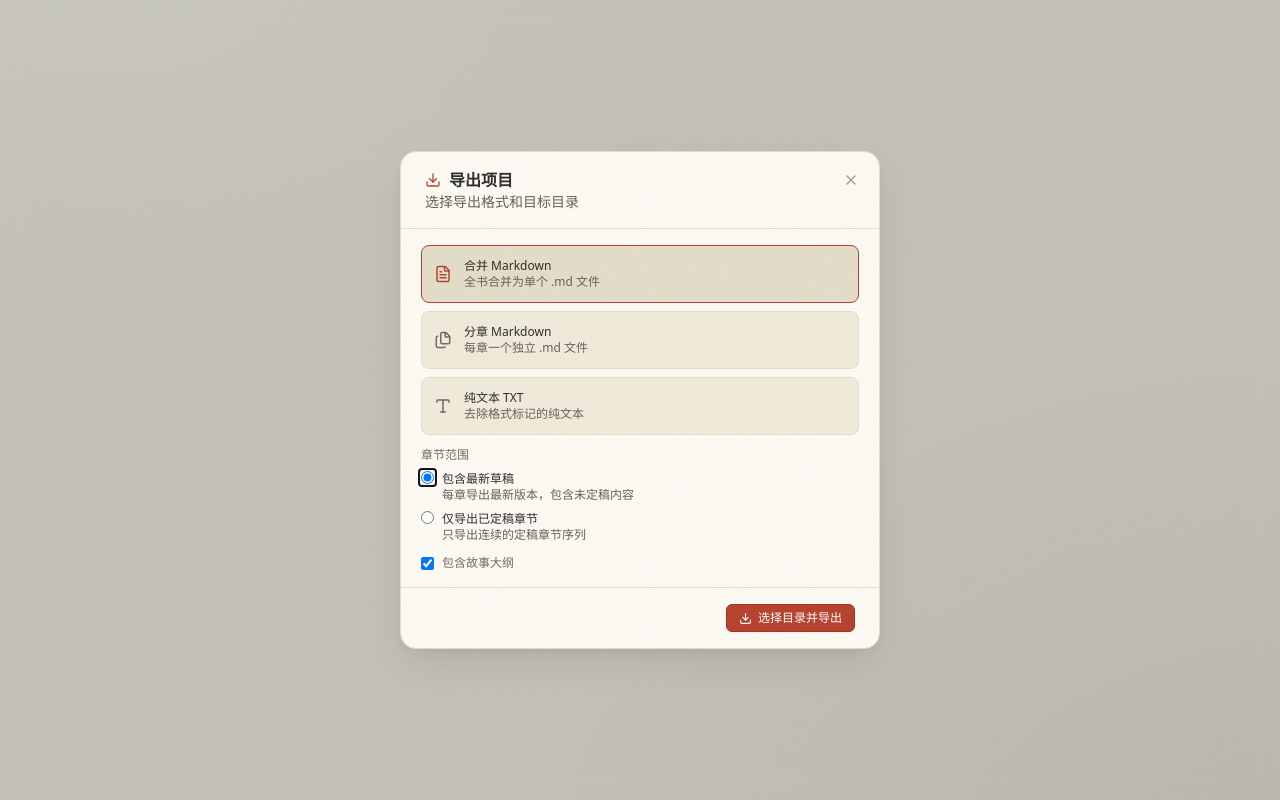
it: selects latest drafts by default and exports only the newest chapter version
expect the radio button labelled "包含最新草稿 每章导出最新版本，包含未定稿内容" is checked: met, box [421,471,434,484]
Click the button "选择目录并导出".
click(790, 618)  # box [726,604,855,632]
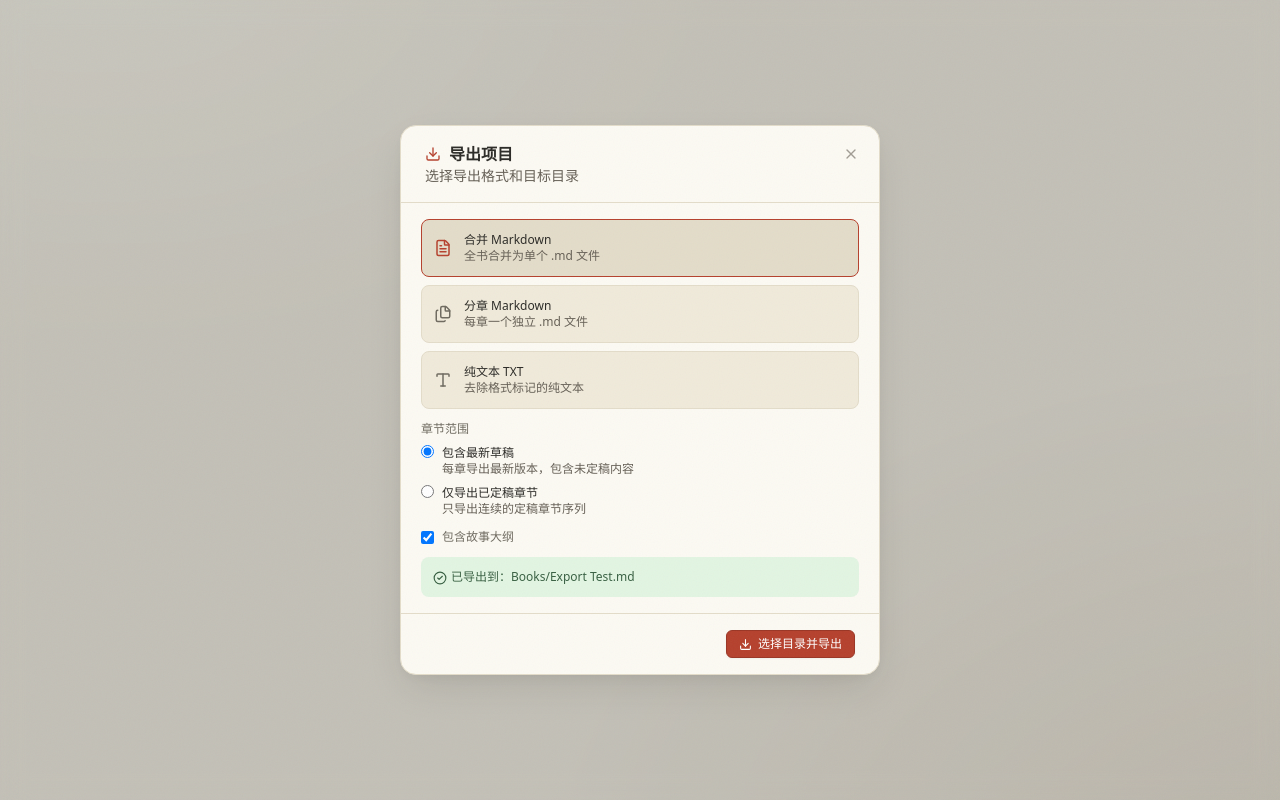
expect the text "已导出到：Books/Export Test.md" is shown: met, box [421,557,859,597]
